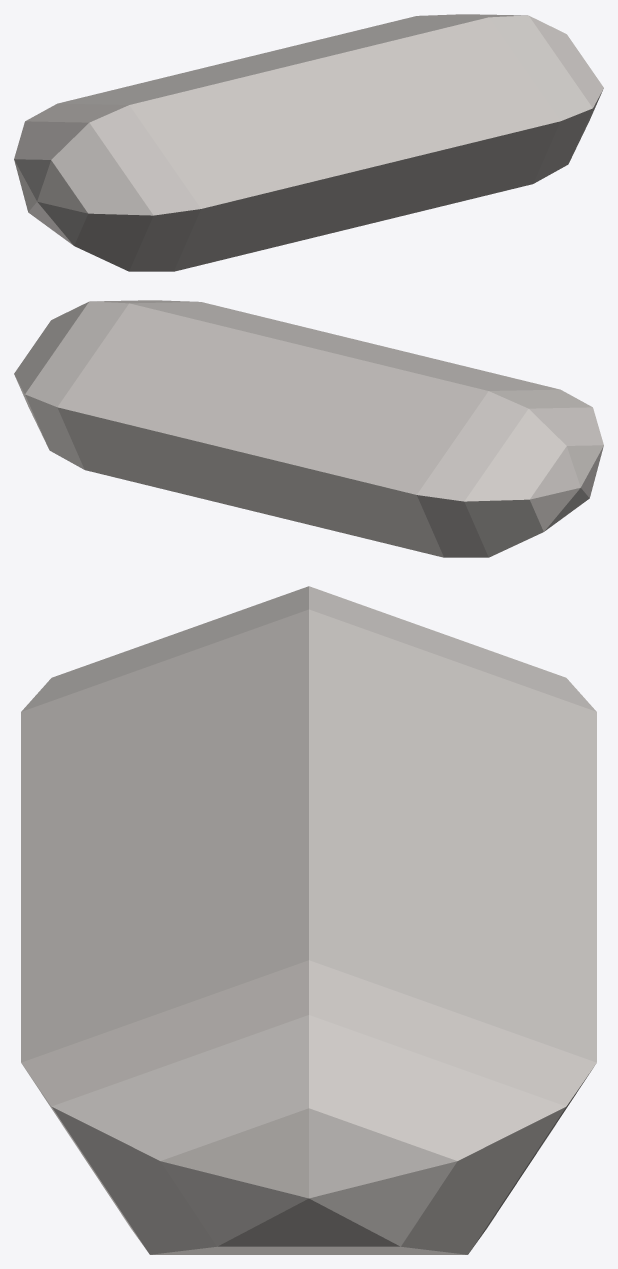
File: SM_Prop_Pills_03.fbx
3 views of the same model, one above another, from view 1: azimuth 30°, elevation 25°; view 2: azimuth 150°, elevation 25°; view 3: azimuth 270°, elevation 25° (orthographic). The views are drawn at different scales.
Parts seen in each view (by area): view 1: SM_Prop_Pills_03; view 2: SM_Prop_Pills_03; view 3: SM_Prop_Pills_03.
Part boxes in pixels (x1,y1,x2,y2): SM_Prop_Pills_03: (14, 14, 603, 271); SM_Prop_Pills_03: (14, 300, 603, 557); SM_Prop_Pills_03: (21, 586, 596, 1254).
Bounding box in the file's own units: 6.14 × 1.45 × 2.81.
